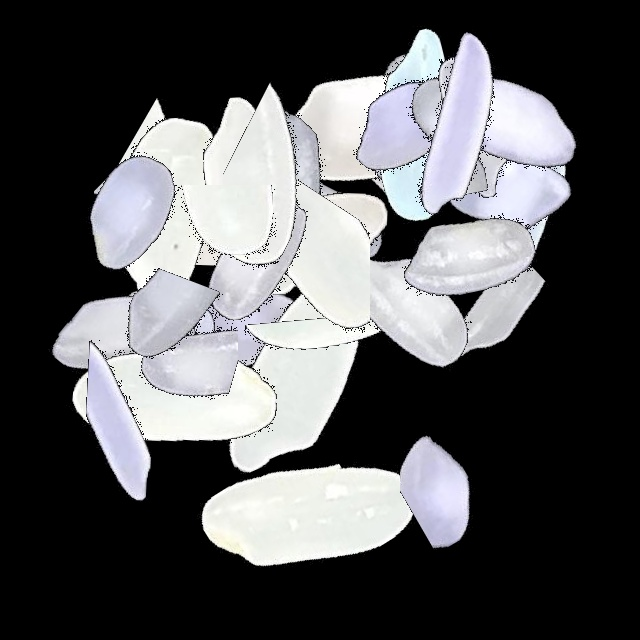Broken: (140, 78, 390, 252), (349, 245, 599, 416), (0, 168, 250, 339), (203, 147, 370, 397), (335, 133, 585, 296), (83, 224, 238, 474), (486, 61, 638, 311), (400, 345, 551, 595), (223, 67, 371, 317), (161, 121, 411, 268), (83, 221, 229, 471), (114, 66, 257, 316), (85, 292, 225, 542), (114, 230, 248, 480), (117, 173, 367, 300), (349, 0, 471, 250), (216, 317, 466, 427), (94, 88, 200, 338), (311, 94, 561, 198), (98, 184, 348, 284), (385, 0, 477, 250), (81, 263, 331, 346)
Full: (88, 99, 338, 349), (291, 0, 541, 250), (190, 95, 440, 345), (312, 0, 562, 250), (118, 202, 368, 452), (164, 250, 414, 500), (258, 31, 508, 281), (44, 231, 294, 481), (346, 0, 596, 250), (33, 248, 283, 498), (250, 0, 500, 250), (299, 20, 549, 270), (383, 65, 633, 315), (282, 182, 532, 432), (185, 386, 435, 636), (159, 45, 409, 295), (278, 0, 528, 250), (348, 0, 598, 250), (40, 89, 290, 339), (0, 214, 250, 464), (124, 72, 374, 322), (48, 271, 298, 521), (349, 0, 599, 250), (3, 84, 253, 334), (134, 137, 384, 387), (390, 0, 640, 250), (330, 0, 580, 250)
